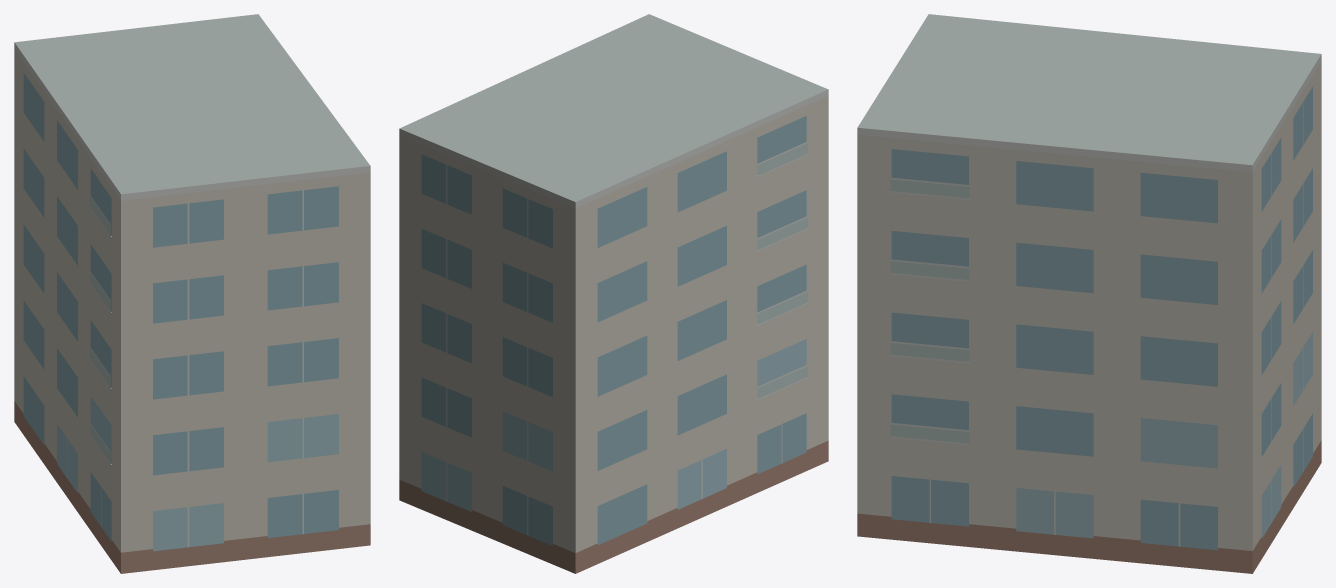
The model's file is survey-upis-32871497.glb.
3 renders of one model, left to right at view 1: azimuth 30°, elevation 25°; view 2: azimuth 150°, elevation 25°; view 3: azimuth 270°, elevation 25°, orthographic. The views are drawn at different scales.
Parts seen in each view (by area): view 1: survey-upis-32871497.tmp; view 2: survey-upis-32871497.tmp; view 3: survey-upis-32871497.tmp.
Boxes of the visible parts, bbox=[...] form: survey-upis-32871497.tmp: bbox=[14, 14, 370, 573]; survey-upis-32871497.tmp: bbox=[399, 14, 828, 573]; survey-upis-32871497.tmp: bbox=[857, 14, 1321, 573].
Size of the model in its own units: 11.32 by 14.25 by 14.68.
